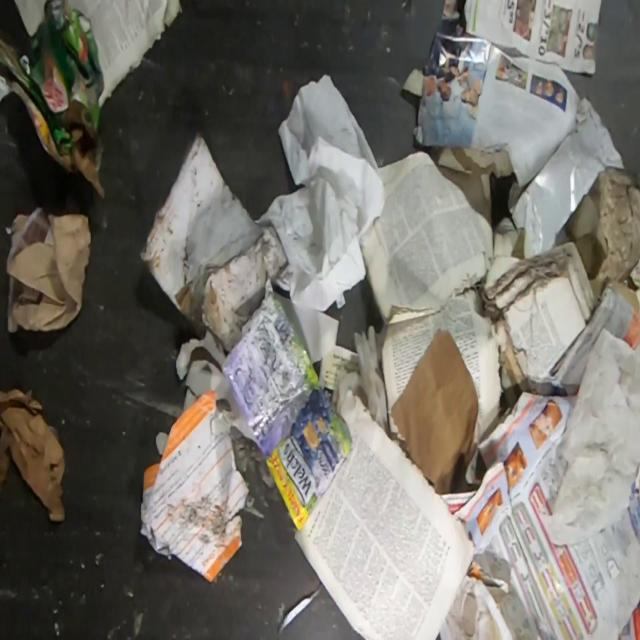cardboard: (0, 0, 105, 201), (0, 388, 66, 525)
soft_plastic: (220, 294, 354, 532)
